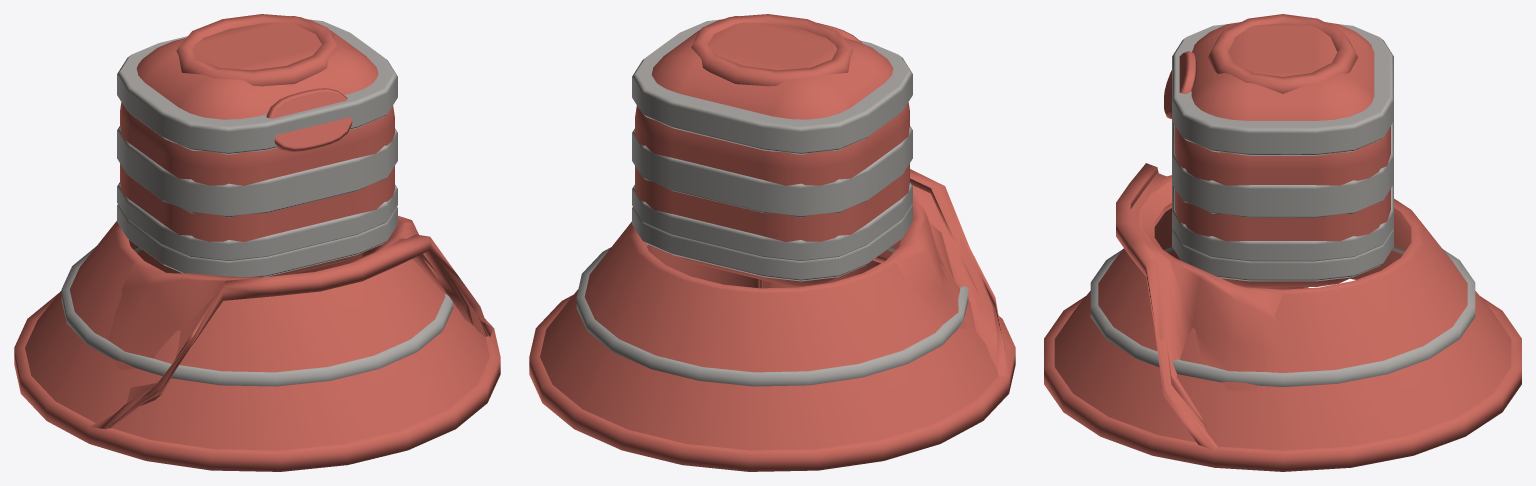
The model's file is bubble_skirt_party_dress.glb.
3 renders of one model, left to right at view 1: azimuth 30°, elevation 25°; view 2: azimuth 150°, elevation 25°; view 3: azimuth 270°, elevation 25°, orthographic.
Parts seen in each view (by area): view 1: bubble_skirt_party_dress_Body, bubble_skirt_party_dress_Body_sit; view 2: bubble_skirt_party_dress_Body, bubble_skirt_party_dress_Body_sit, bubble_skirt_party_dress_LegR_sit, bubble_skirt_party_dress_LegL_sit; view 3: bubble_skirt_party_dress_Body, bubble_skirt_party_dress_Body_sit.
Boxes of the visible parts, x1,y1,x2,y2 form: bubble_skirt_party_dress_Body: (14, 14, 500, 471); bubble_skirt_party_dress_Body_sit: (90, 19, 493, 429); bubble_skirt_party_dress_Body: (529, 14, 1015, 471); bubble_skirt_party_dress_Body_sit: (632, 19, 1008, 376); bubble_skirt_party_dress_LegR_sit: (645, 243, 762, 288); bubble_skirt_party_dress_LegL_sit: (758, 256, 886, 288); bubble_skirt_party_dress_Body: (1044, 14, 1521, 471); bubble_skirt_party_dress_Body_sit: (1116, 24, 1397, 450).
Size of the model in its own units: 0.648 by 0.5289 by 0.6414.
